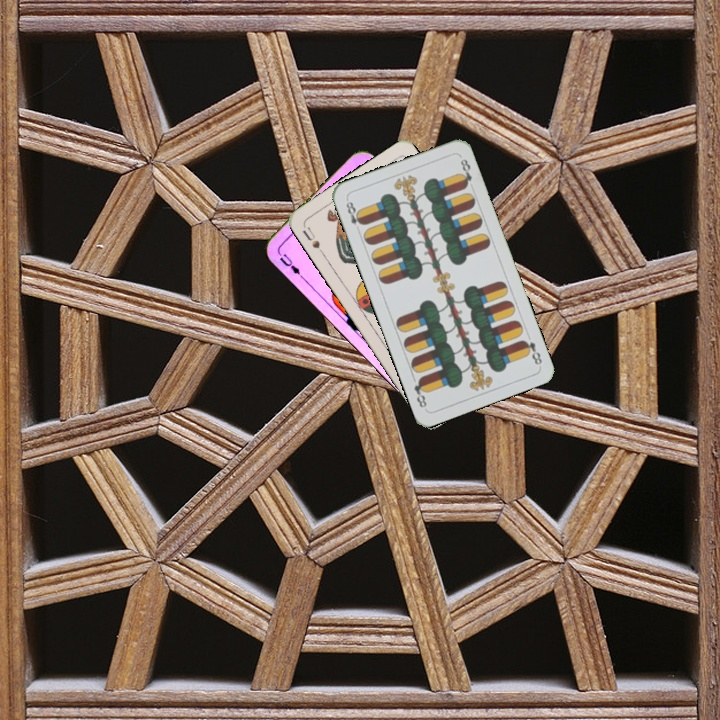E8: (518, 336, 545, 368), (342, 196, 366, 228)
EU: (274, 247, 306, 281)
SU: (298, 223, 327, 257)
